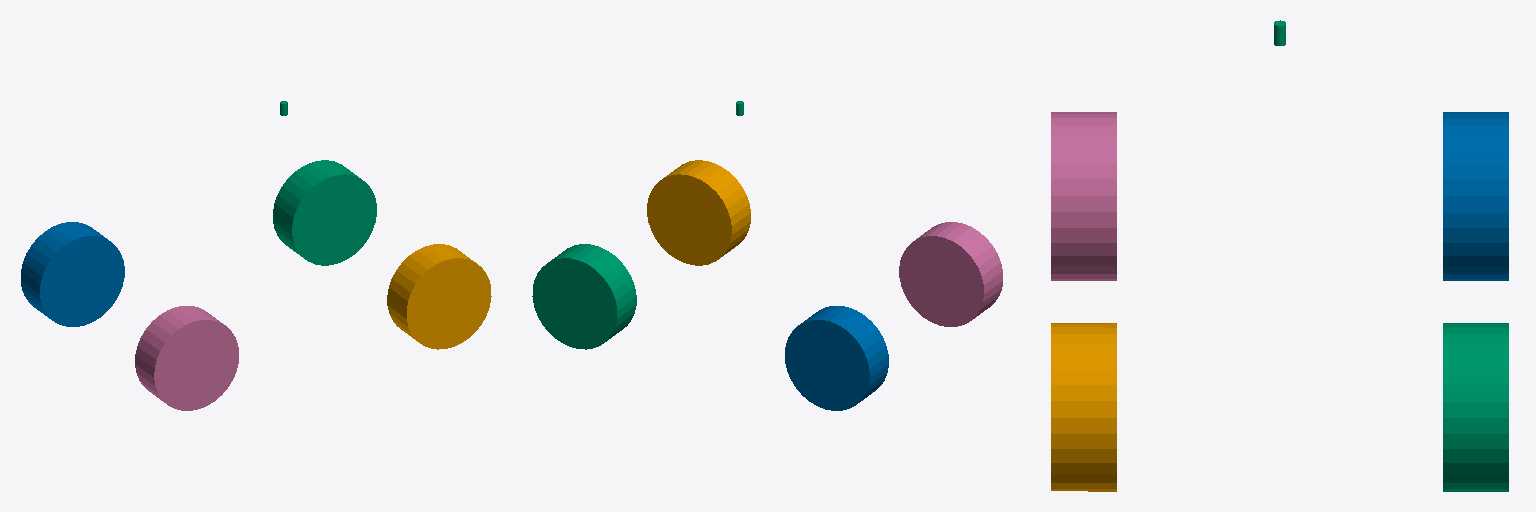
robot.urdf — m2d:
<?xml version="1.0"?>
<robot name="m2d" xmlns:xacro="http://ros.org/wiki/xacro">
  <link name="base_link">
    <visual>
      <origin xyz="0 0 0.0" rpy="1.57 0 -1.57"/>
      <geometry>
        <mesh filename="package://direct_lidar_odometry/models/M2_P.stl" scale="0.001 0.001 0.001"/>
      </geometry>
    </visual>
    <collision>
      <origin xyz="0 0 0.51" rpy="0 0 0"/>
      <geometry>
        <box size="1.66 0.9 0.55"/>
      </geometry>
    </collision>
  </link>

  <link name="imu"/>

  <joint name="base_link_imu_joint" type="fixed">
    <parent link="base_link"/>
    <child link="imu"/>
    <origin xyz="0.525 0 0.43" rpy="0 0 0"/>
  </joint>
  
  <link name="lidar">
    <visual>
      <origin xyz="0 0 0" rpy="0 0 0"/>
      <geometry>
        <cylinder radius="0.02" length="0.07"/>
      </geometry>
    </visual>
    <collision>
      <origin xyz="0 0 0" rpy="0 0 0"/>
      <geometry>
        <cylinder radius="0.02" length="0.07"/>
      </geometry>
    </collision>
  </link>

  <joint name="base_link_lidar_joint" type="fixed">
    <parent link="base_link"/>
    <child link="lidar"/>
    <origin xyz="0.170 0 0.997" rpy="0 0 0.77"/>
  </joint>

  <!-- <link name="Front_Camera">
    <visual>
      <origin xyz="-0.01 0 0" rpy="0 0 0"/>
      <geometry>
        <cylinder radius="0.01" length="0.02"/>
      </geometry>
    </visual>
    <collision>
      <origin xyz="-0.01 0 0" rpy="0 0 0"/>
      <geometry>
        <cylinder radius="0.01" length="0.02"/>
      </geometry>
    </collision>
  </link>
  <joint name="base_link_Front_Camera_joint" type="fixed">
    <parent link="base_link"/>
    <child link="Front_Camera"/>
    <origin xyz="0.48632 0 1.04663" rpy="-1.570796 0.3927 -1.570796"/>
  </joint> -->

  <joint name="steering_motor_bl" type="revolute">
    <parent link="base_link"/>
    <child link="back left wheel"/>
    <axis xyz="0 0 1"/>
    <limit effort="200" lower="-0.5" upper="0.5" velocity="0.4"/>
    <origin xyz="-0.7725 0.607 0" rpy="0 0 1.571813"/>
  </joint>
  <link name="back left wheel">
    <visual>
      <origin xyz="0 0 0" rpy="3.141593 -1.570793 3.141593"/>
      <geometry>
        <cylinder radius="0.05" length="0.1"/>
      </geometry>
    </visual>
    <collision>
      <origin xyz="0 0 0" rpy="3.141593 -1.570793 3.141593"/>
      <geometry>
        <cylinder radius="0.05" length="0.1"/>
      </geometry>
    </collision>
  </link>

  <joint name="drive_motor_bl" type="continuous">
    <parent link="back left wheel"/>
    <child link="back left wheel_0"/>
    <axis xyz="1 0 0"/>
    <limit effort="250" velocity="27"/>
    <origin xyz="0 0 0" rpy="0.146793 0 0"/>
  </joint>
  <link name="back left wheel_0">
    <visual>
      <origin xyz="0 0 0" rpy="0 1.570796 0"/>
      <geometry>
        <cylinder radius="0.261" length="0.205"/>
      </geometry>
    </visual>
    <collision>
      <origin xyz="0 0 0" rpy="0 1.570796 0"/>
      <geometry>
        <cylinder radius="0.261" length="0.205"/>
      </geometry>
    </collision>
  </link>

  <joint name="steering_motor_br" type="revolute">
    <parent link="base_link"/>
    <child link="back right wheel"/>
    <axis xyz="0 -0.000141 1"/>
    <limit effort="200" lower="-0.5" upper="0.5" velocity="0.4"/>
    <origin xyz="-0.7725 -0.607 0" rpy="-0.000141 0 1.570776"/>
  </joint>
  <link name="back right wheel">
    <visual>
      <origin xyz="0 0 0" rpy="3.141593 -1.570793 3.141593"/>
      <geometry>
        <cylinder radius="0.05" length="0.1"/>
      </geometry>
    </visual>
    <collision>
      <origin xyz="0 0 0" rpy="3.141593 -1.570793 3.141593"/>
      <geometry>
        <cylinder radius="0.05" length="0.1"/>
      </geometry>
    </collision>
  </link>
  <joint name="drive_motor_br" type="continuous">
    <parent link="back right wheel"/>
    <child link="back right wheel_1"/>
    <axis xyz="1 0 0"/>
    <limit effort="250" velocity="27"/>
    <origin xyz="0 0 0" rpy="0.144756 0 0"/>
  </joint>
  <link name="back right wheel_1">
    <visual>
      <origin xyz="0 0 0" rpy="0 1.570796 0"/>
      <geometry>
        <cylinder radius="0.261" length="0.205"/>
      </geometry>
    </visual>
    <collision>
      <origin xyz="0 0 0" rpy="0 1.570796 0"/>
      <geometry>
        <cylinder radius="0.261" length="0.205"/>
      </geometry>
    </collision>
  </link>
  <joint name="steering_motor_fr" type="revolute">
    <parent link="base_link"/>
    <child link="front right wheel"/>
    <axis xyz="0 0 1"/>
    <limit effort="200" lower="-0.5" upper="0.5" velocity="0.4"/>
    <origin xyz="0.7725 -0.607 0" rpy="0 0 1.569235"/>
  </joint>
  <link name="front right wheel">
    <visual>
      <origin xyz="0 0 0" rpy="3.141593 -1.570793 3.141593"/>
      <geometry>
        <cylinder radius="0.05" length="0.1"/>
      </geometry>
    </visual>
    <collision>
      <origin xyz="0 0 0" rpy="3.141593 -1.570793 3.141593"/>
      <geometry>
        <cylinder radius="0.05" length="0.1"/>
      </geometry>
    </collision>
  </link>
  <joint name="drive_motor_fr" type="continuous">
    <parent link="front right wheel"/>
    <child link="front right wheel_2"/>
    <axis xyz="1 0 0"/>
    <limit effort="200" velocity="27"/>
    <origin xyz="0 0 0" rpy="0.67099 0 0"/>
  </joint>
  <link name="front right wheel_2">
    <visual>
      <origin xyz="0 0 0" rpy="0 1.570796 0"/>
      <geometry>
        <cylinder radius="0.261" length="0.205"/>
      </geometry>
    </visual>
    <collision>
      <origin xyz="0 0 0" rpy="0 1.570796 0"/>
      <geometry>
        <cylinder radius="0.261" length="0.205"/>
      </geometry>
    </collision>
  </link>
  <joint name="steering_motor_fl" type="revolute">
    <parent link="base_link"/>
    <child link="front left wheel"/>
    <axis xyz="0 0 1"/>
    <limit effort="200" lower="-0.5" upper="0.5" velocity="0.4"/>
    <origin xyz="0.7725 0.607 0" rpy="0 0 -1.570385"/>
  </joint>
  <link name="front left wheel">
    <visual>
      <origin xyz="0 0 0" rpy="3.141593 -1.570793 3.141593"/>
      <geometry>
        <cylinder radius="0.05" length="0.1"/>
      </geometry>
    </visual>
    <collision>
      <origin xyz="0 0 0" rpy="3.141593 -1.570793 3.141593"/>
      <geometry>
        <cylinder radius="0.05" length="0.1"/>
      </geometry>
    </collision>
  </link>

  <joint name="drive_motor_fl" type="continuous">
    <parent link="front left wheel"/>
    <child link="front left wheel_3"/>
    <axis xyz="-1 0 0"/>
    <limit effort="200" velocity="27"/>
    <origin xyz="0 0 0" rpy="-0.673929 0 0"/>
  </joint>
  <link name="front left wheel_3">
    <visual>
      <origin xyz="0 0 0" rpy="0 1.570796 0"/>
      <geometry>
        <cylinder radius="0.261" length="0.205"/>
      </geometry>
    </visual>
    <collision>
      <origin xyz="0 0 0" rpy="0 1.570796 0"/>
      <geometry>
        <cylinder radius="0.261" length="0.205"/>
      </geometry>
    </collision>
  </link>

</robot>

--- What the picture shows (computed from the rendered views, not written in the file) ---
3 views of the same robot in one strip: view 1: azimuth 30°, elevation 25°; view 2: azimuth 150°, elevation 25°; view 3: azimuth 270°, elevation 25° (orthographic).
Robot: m2d — 11 links, 10 joints (4 revolute, 4 continuous, 2 fixed); root link base_link; default pose: all joints at 0.
Visible links, largest first — view 1: back right wheel_1, back left wheel_0, front left wheel_3, front right wheel_2; view 2: back left wheel_0, back right wheel_1, front right wheel_2, front left wheel_3; view 3: back left wheel_0, back right wheel_1, front left wheel_3, front right wheel_2.
Boxes of the visible links, left/top/right/bottom form: back right wheel_1: left=135, top=306, right=238, bottom=410; back left wheel_0: left=21, top=222, right=124, bottom=326; front left wheel_3: left=273, top=160, right=376, bottom=265; front right wheel_2: left=387, top=244, right=491, bottom=349; back left wheel_0: left=785, top=306, right=888, bottom=410; back right wheel_1: left=899, top=222, right=1002, bottom=326; front right wheel_2: left=647, top=160, right=750, bottom=265; front left wheel_3: left=532, top=244, right=636, bottom=349; back left wheel_0: left=1443, top=112, right=1508, bottom=280; back right wheel_1: left=1051, top=112, right=1116, bottom=280; front left wheel_3: left=1443, top=323, right=1508, bottom=491; front right wheel_2: left=1051, top=323, right=1116, bottom=491.
Size in the robot's own frame: 2.07 by 1.42 by 1.29 metres.
0 mesh visuals loaded from 1 distinct referenced files (none loaded); not drawn: 1 (reference not matched to a file when rendering).